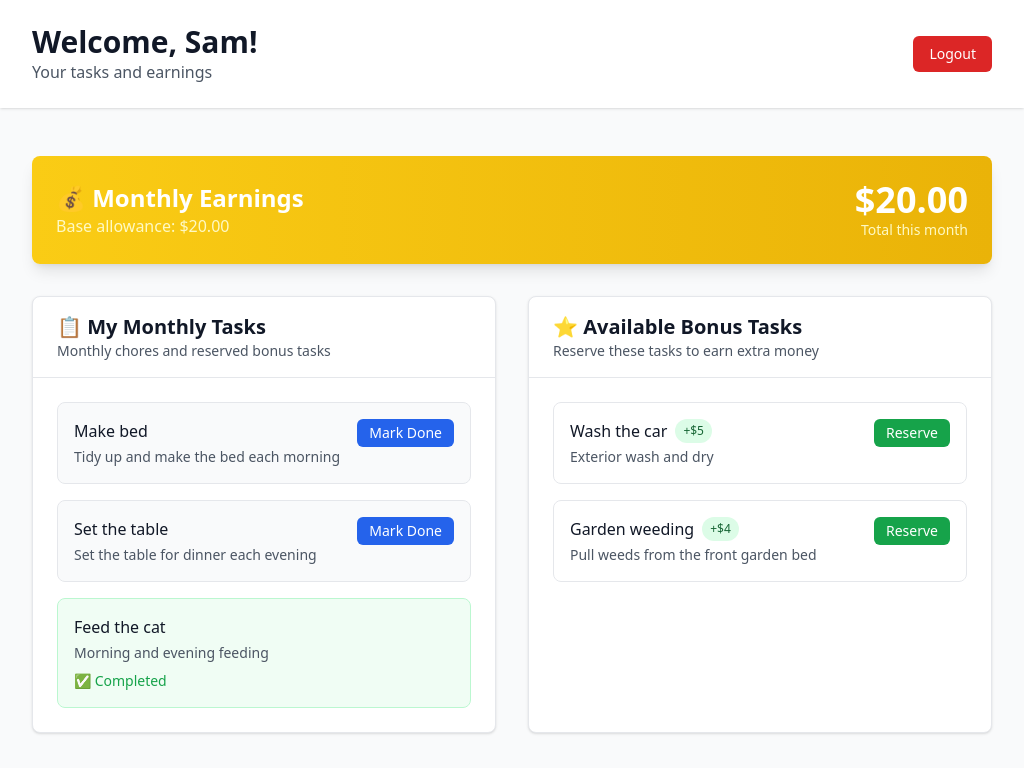
it: Child Flows Integration Tests › Complete Reserved Task Flow › should complete a reserved bonus task
The image size is (1024, 768).
Expected: the heading "Wash the car" is shown, [570, 419, 667, 443]
Step 1. Click the button "Reserve" in the row of "Wash the car" → (912, 433), box [874, 419, 950, 447]
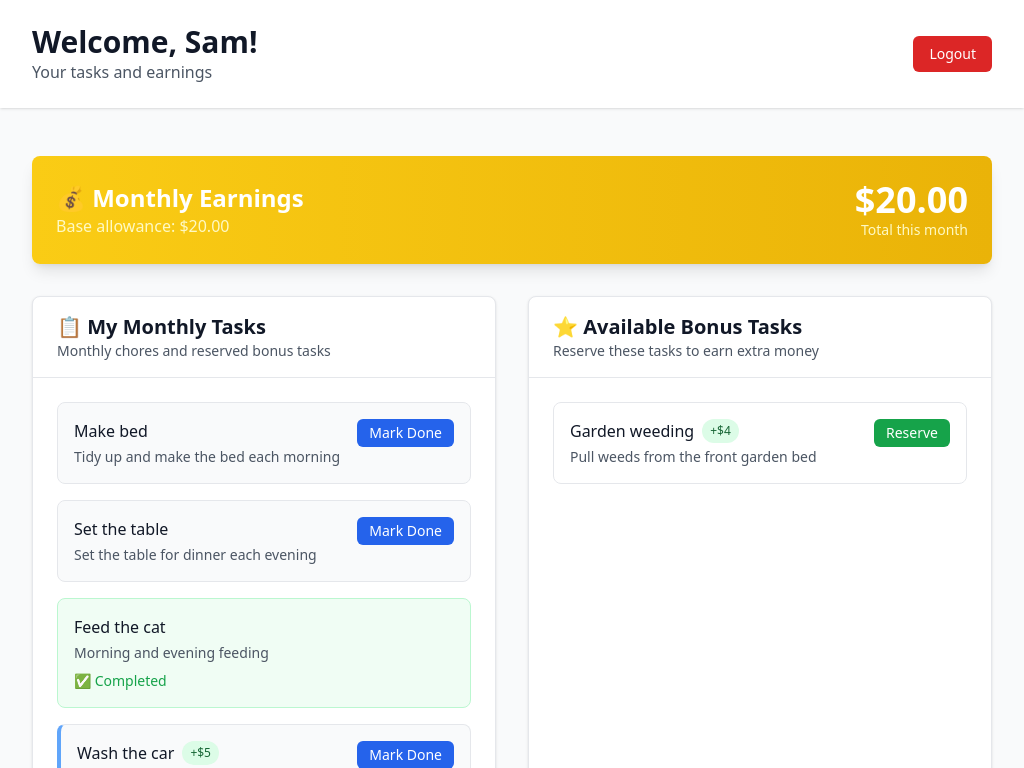
Expected: the heading "Wash the car" is shown, [77, 741, 174, 765]
Complete the reserved task
Step 2. Click the button "Mark Done" in the row of "Wash the car" → (406, 755), box [357, 741, 454, 767]
(page scrolled)
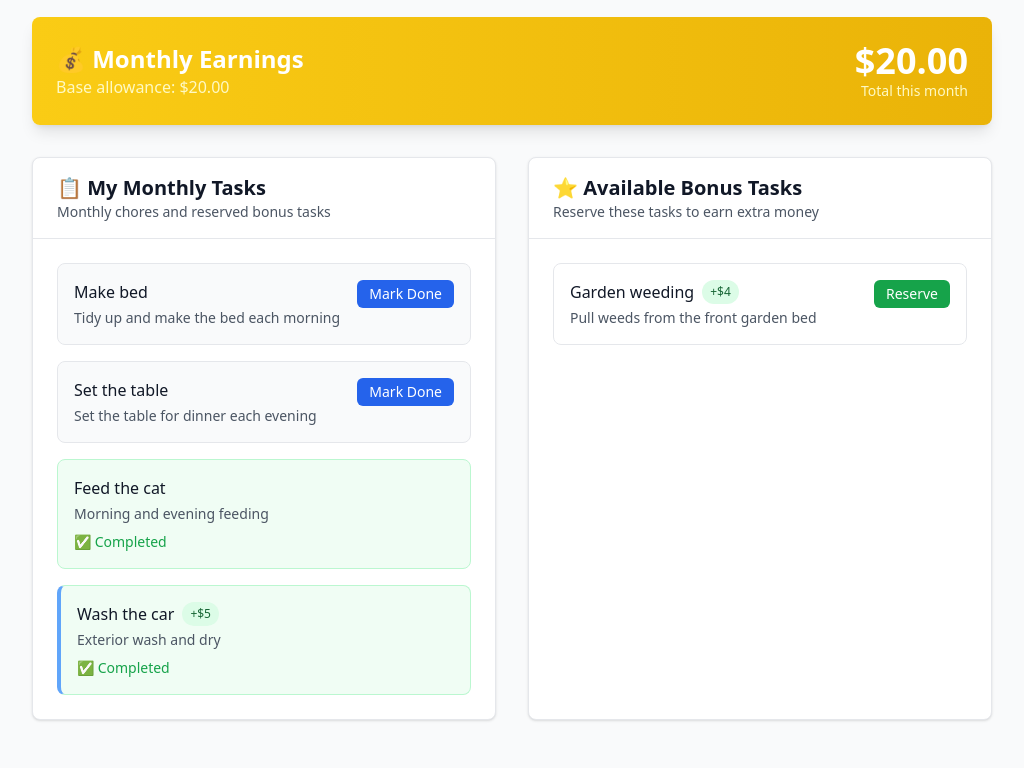
Expected: the text "Wash the car" shows "✅ Completed", [77, 658, 170, 677]
